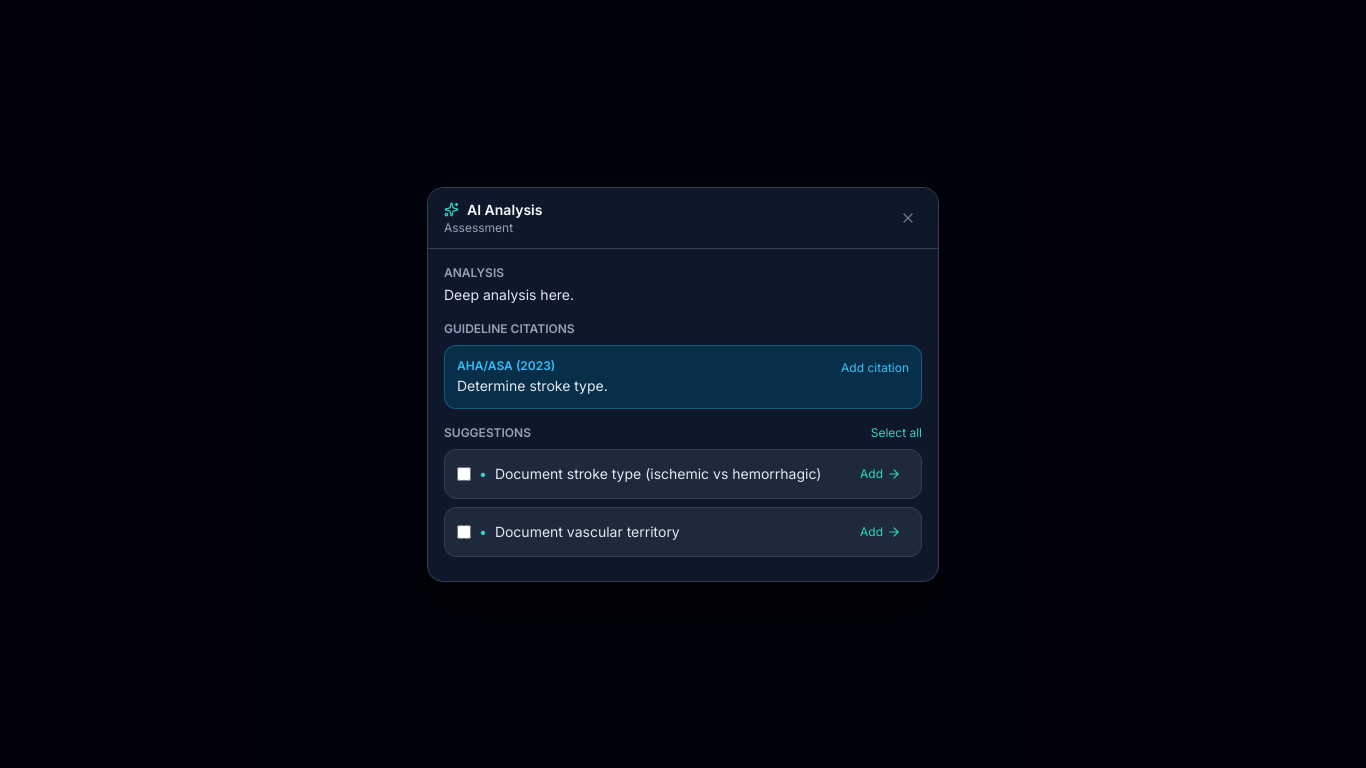
Test case: FocusedAIPanel › clears batch queue if a fetch error occurs mid-batch
# Select all, start batch
Step 1. Click the button "Select all" → (896, 432), box [871, 424, 922, 440]
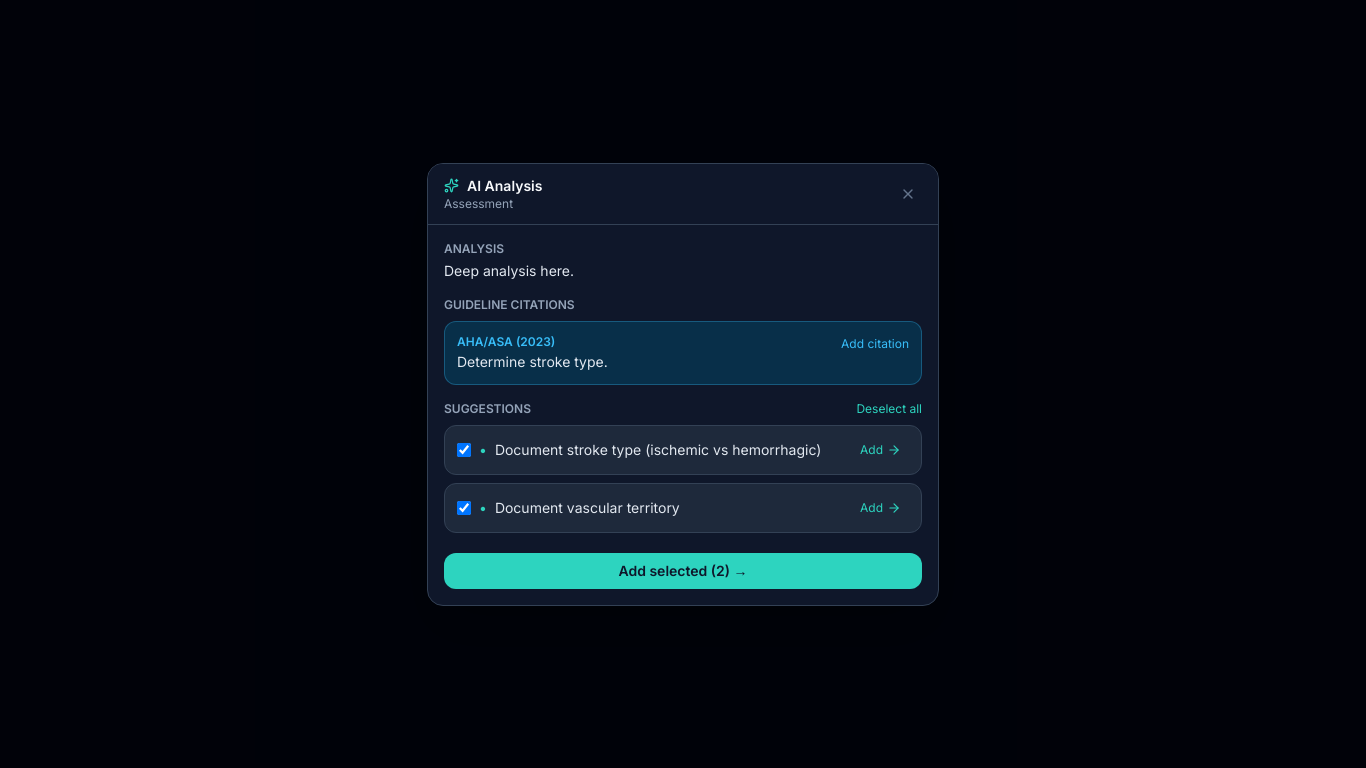
Step 2. Click the button "Add selected (2) →" → (683, 570), box [444, 552, 922, 588]
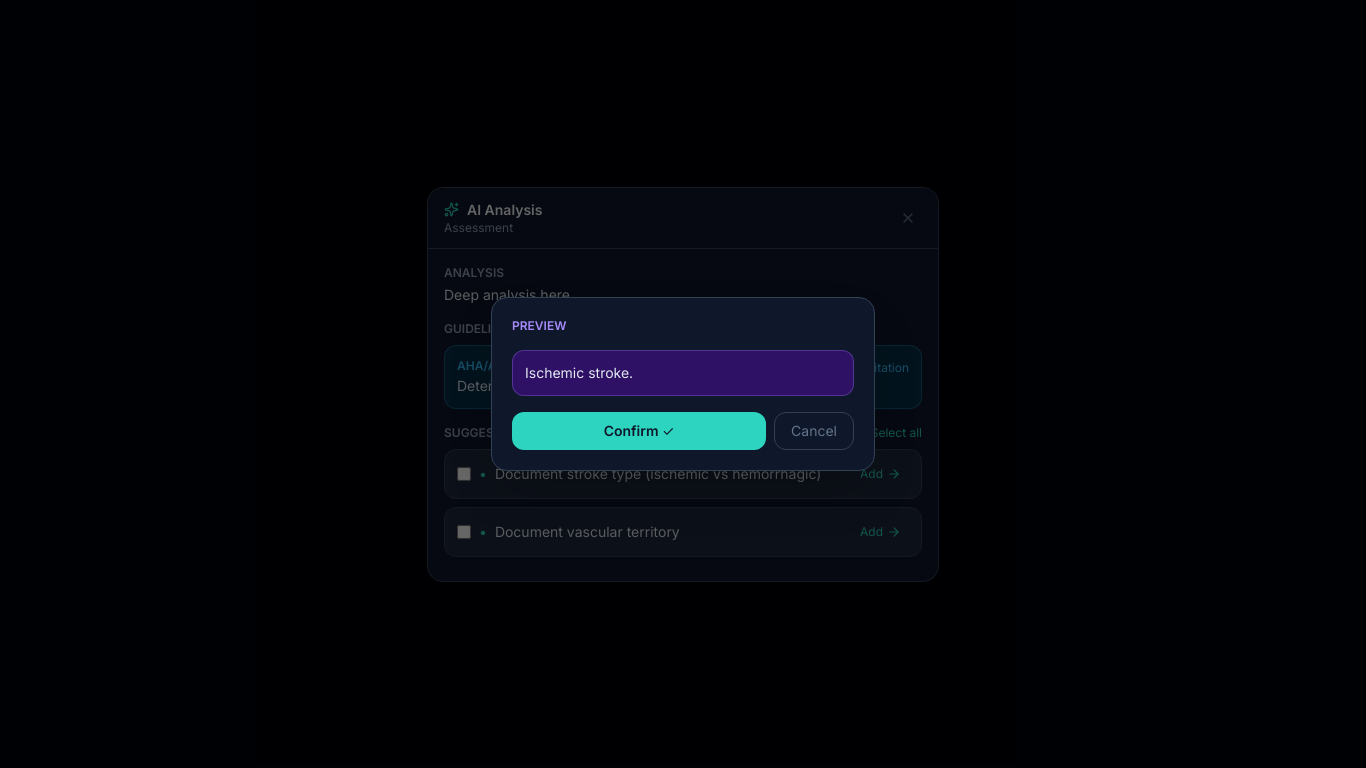
Result: the button "Confirm ✓" is shown
# Confirm first item — triggers auto-advance to second
Step 3. Click the button "Confirm ✓" → (639, 431), box [512, 412, 766, 450]
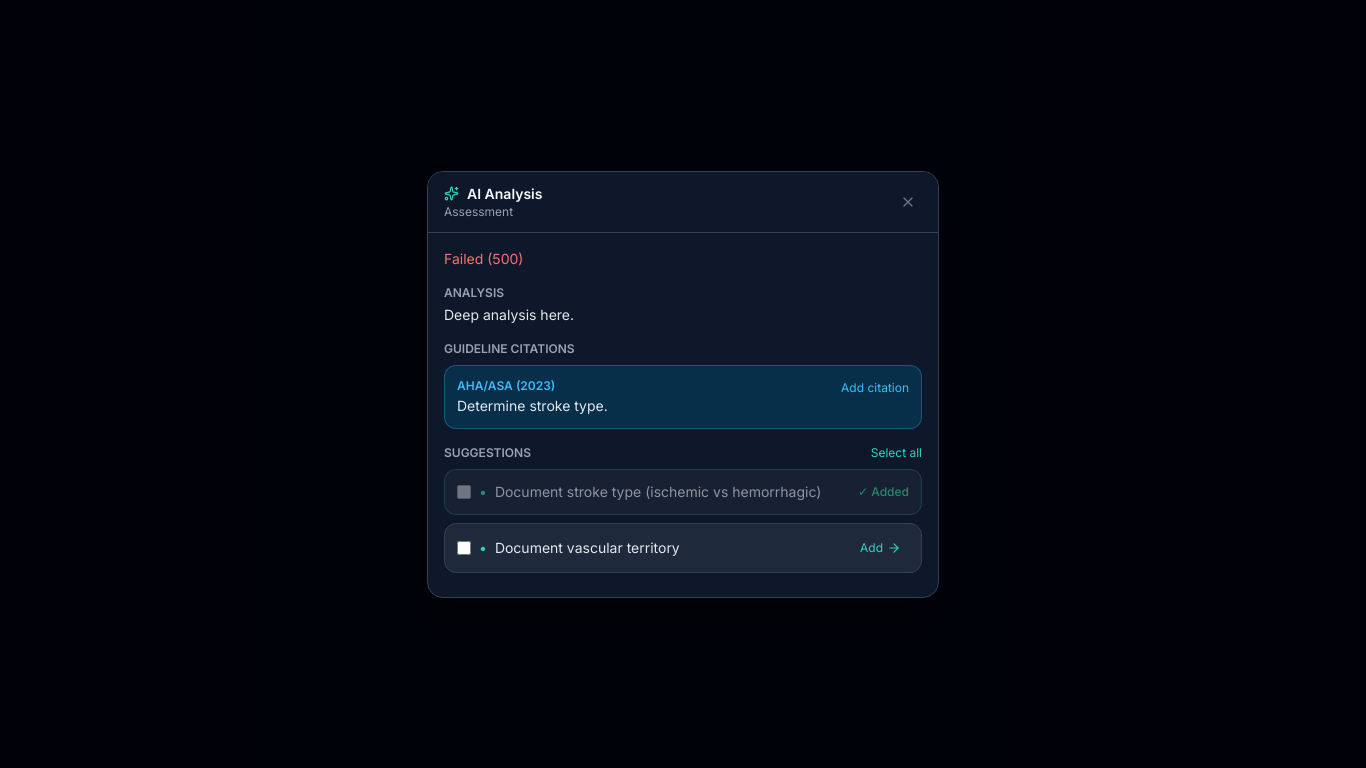
Result: the button "Confirm" is gone
